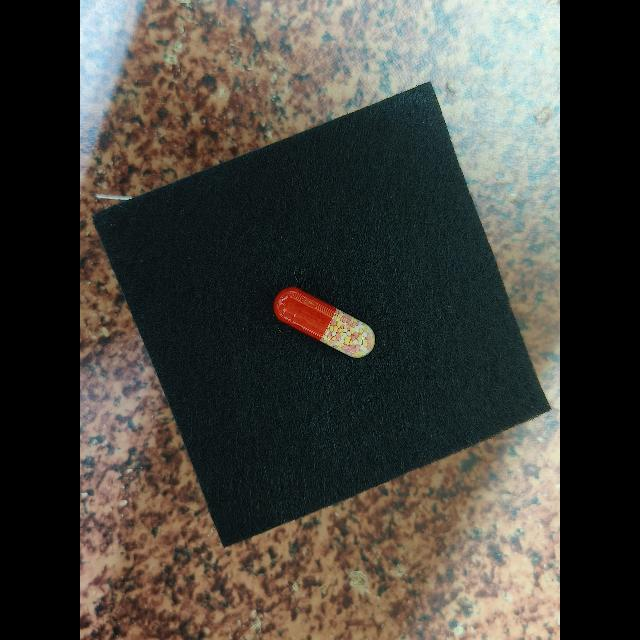Intact Capsule: (274, 287, 375, 358)
